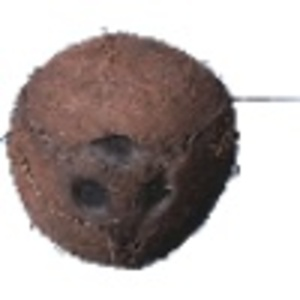coco: (1, 34, 300, 268)
